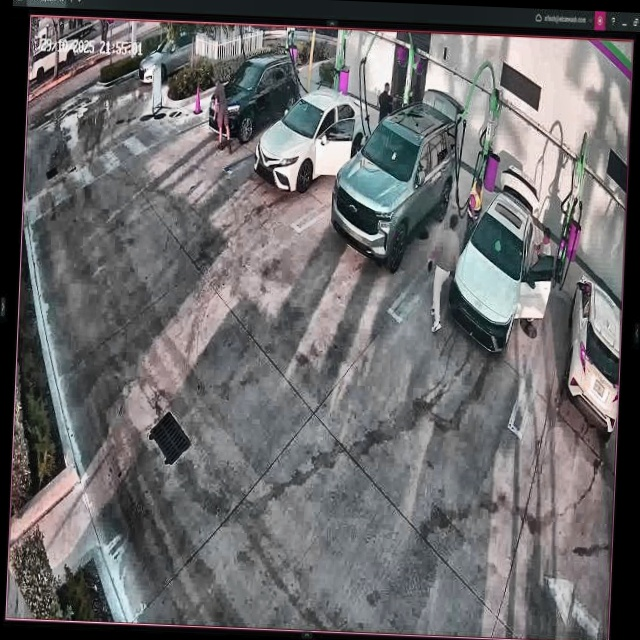Car: (330, 94, 463, 271), (444, 184, 556, 352), (255, 82, 369, 194)
